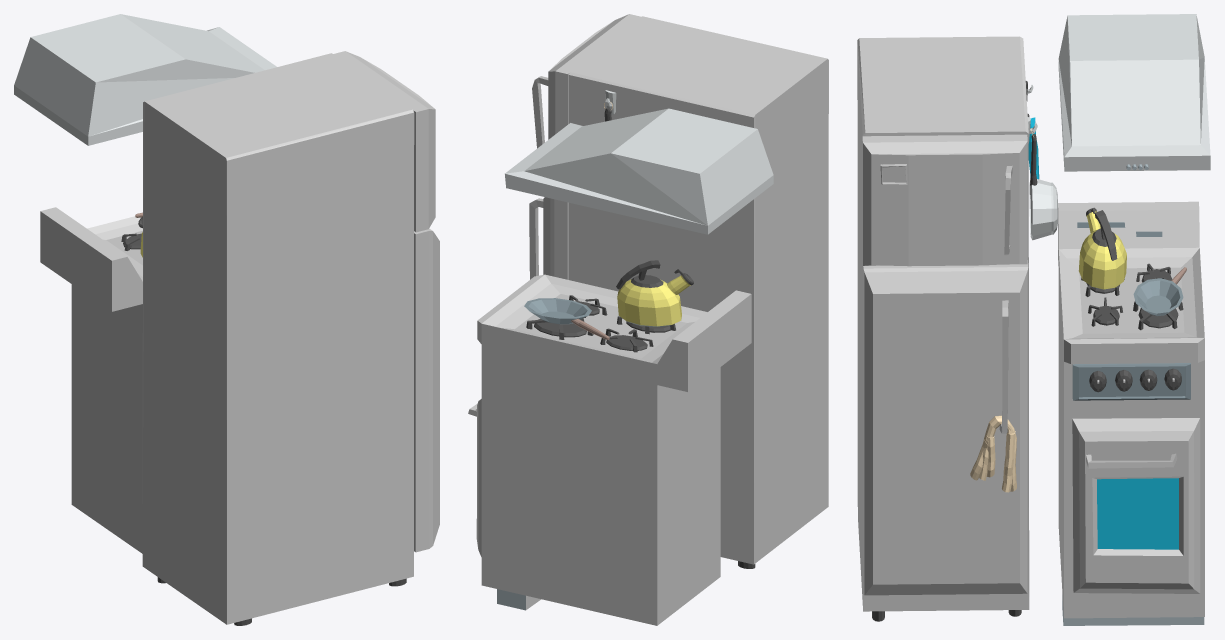
File: kitchen03.gltf
The picture shows the model from 3 angles, left to right: view 1: azimuth 30°, elevation 25°; view 2: azimuth 150°, elevation 25°; view 3: azimuth 270°, elevation 25°; orthographic projection. The views are drawn at different scales.
Parts seen in each view (by area): view 1: group610829822, group1390275597, group1015041580; view 2: group1390275597, group610829822, group1015041580, group1684725353; view 3: group610829822, group1390275597, group1015041580, group1684725353.
Boxes of the visible parts, x1,y1,x2,y2 form: group610829822: (142, 51, 439, 625); group1390275597: (40, 207, 142, 553); group1015041580: (14, 14, 276, 145); group1390275597: (468, 260, 751, 625); group610829822: (529, 14, 828, 568); group1015041580: (505, 108, 773, 234); group1684725353: (524, 298, 609, 339); group610829822: (857, 36, 1057, 621); group1390275597: (1058, 201, 1204, 625); group1015041580: (1058, 14, 1210, 171); group1684725353: (1133, 267, 1186, 316).
Size of the model in its own units: 1.95 by 3.27 by 2.07.
